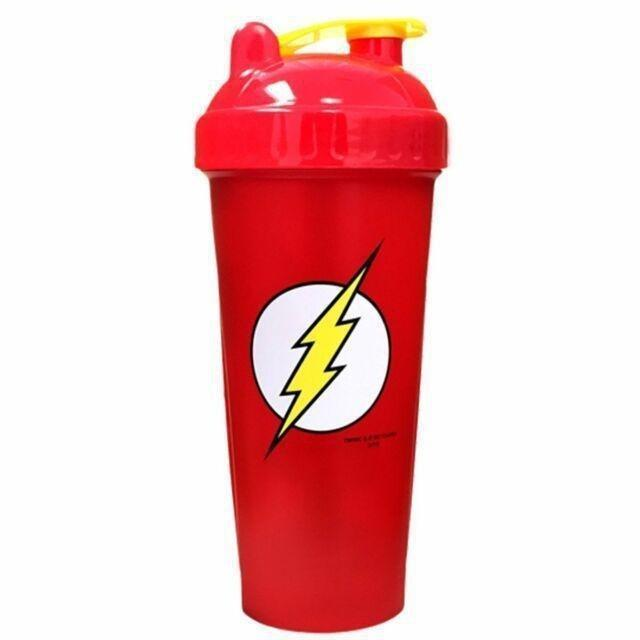gym bottle: (193, 11, 452, 638)
